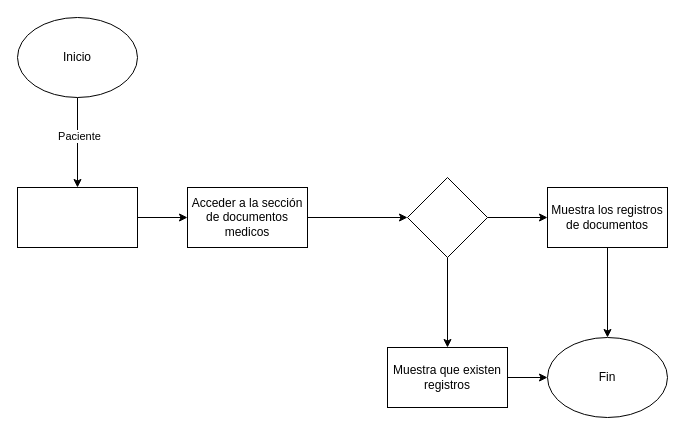
This 685x435 diagram has some shape labels left out. The box of each missing label's shape, as (x1, y1, x2, y2) in pixels:
Inicia Sesión: (16, 186, 138, 248)
¿Hay registro de documentos?: (406, 176, 488, 258)
